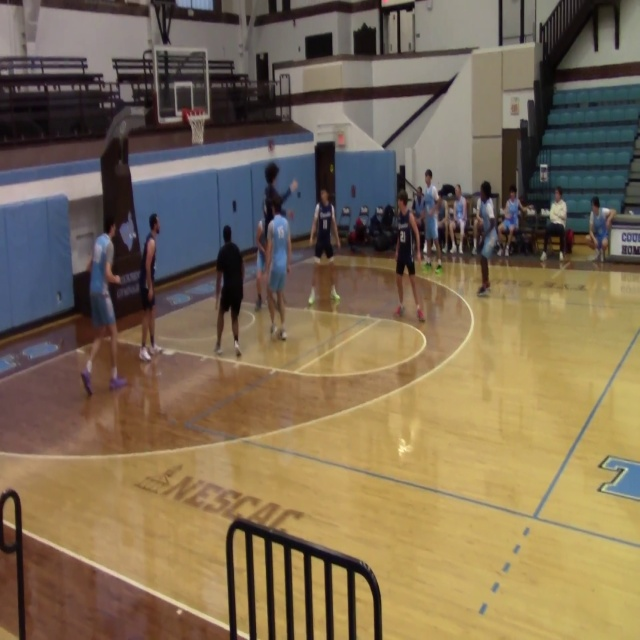Basketball: (434, 266, 442, 274), (540, 251, 547, 260)
